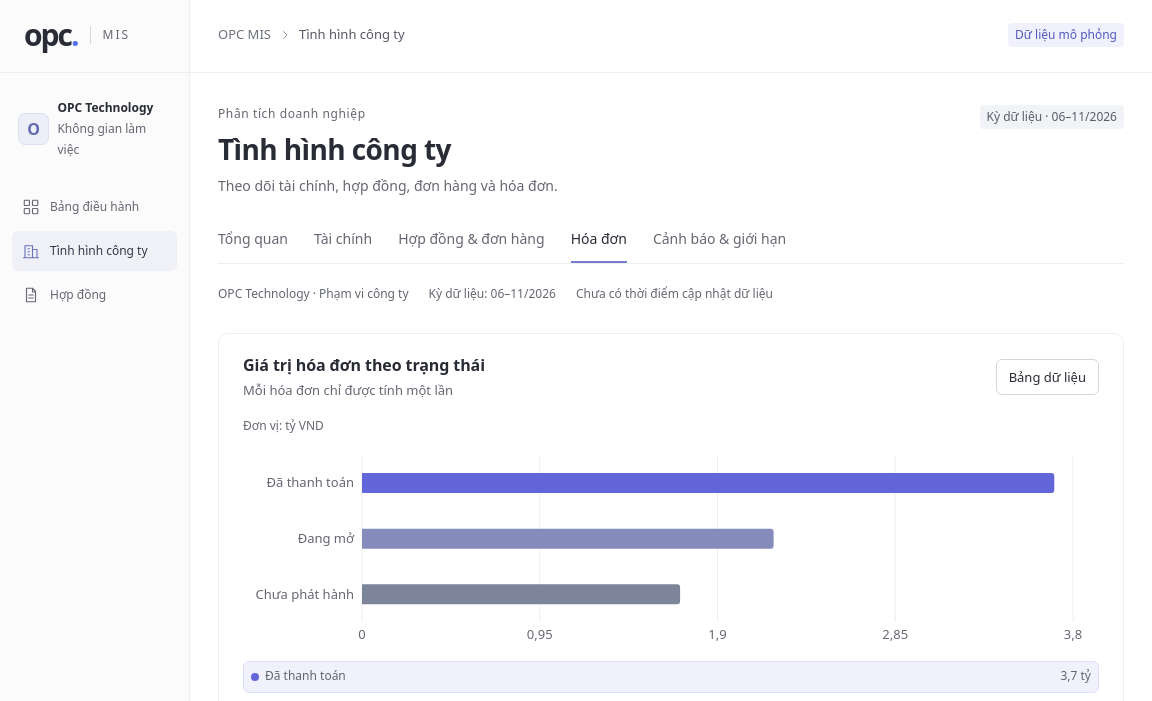
isolated executive preview › uses the same invoice labels in filters, chart tables and invoice rows while retaining source filter values
Check: the text "INV-002" is not shown
Click the button "Bảng dữ liệu" at (1047, 377), box [996,359,1099,395]
(page scrolled)
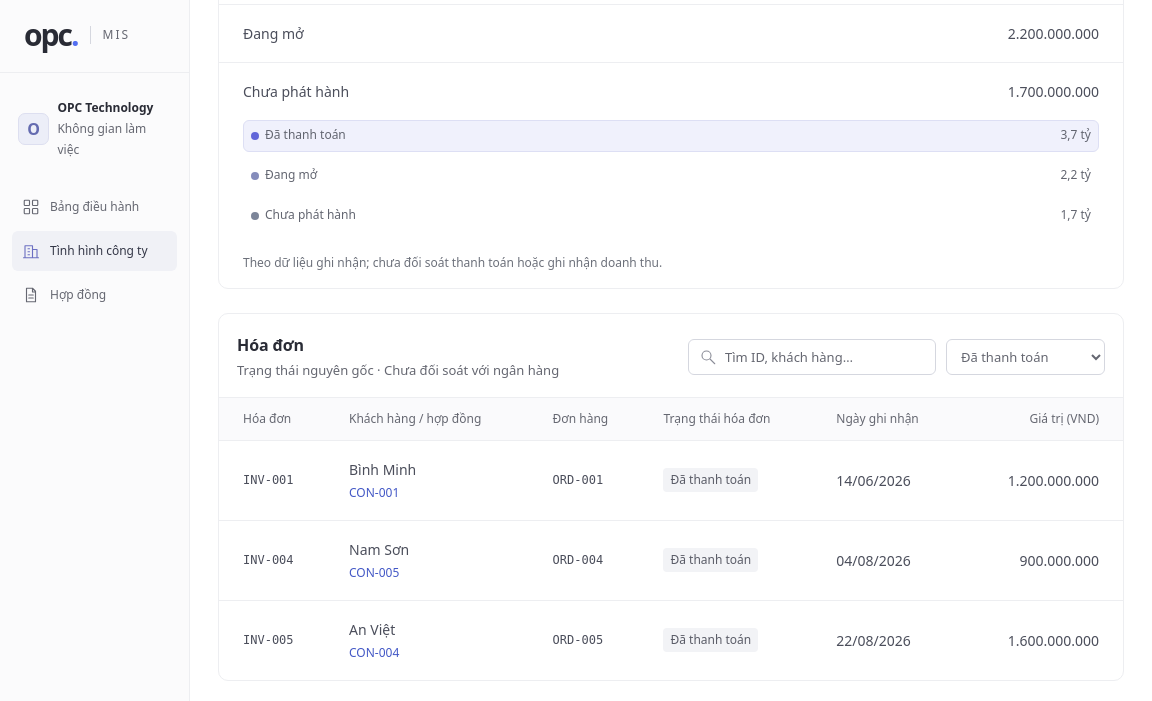
Check: the table that starts with "Hóa đơn" shows "Đã thanh toán", box [670,471,751,488]
Select "Đang mở" in the dropdown named "Trạng thái hóa đơn" at (1026, 357), box [946,339,1105,375]
(page scrolled)
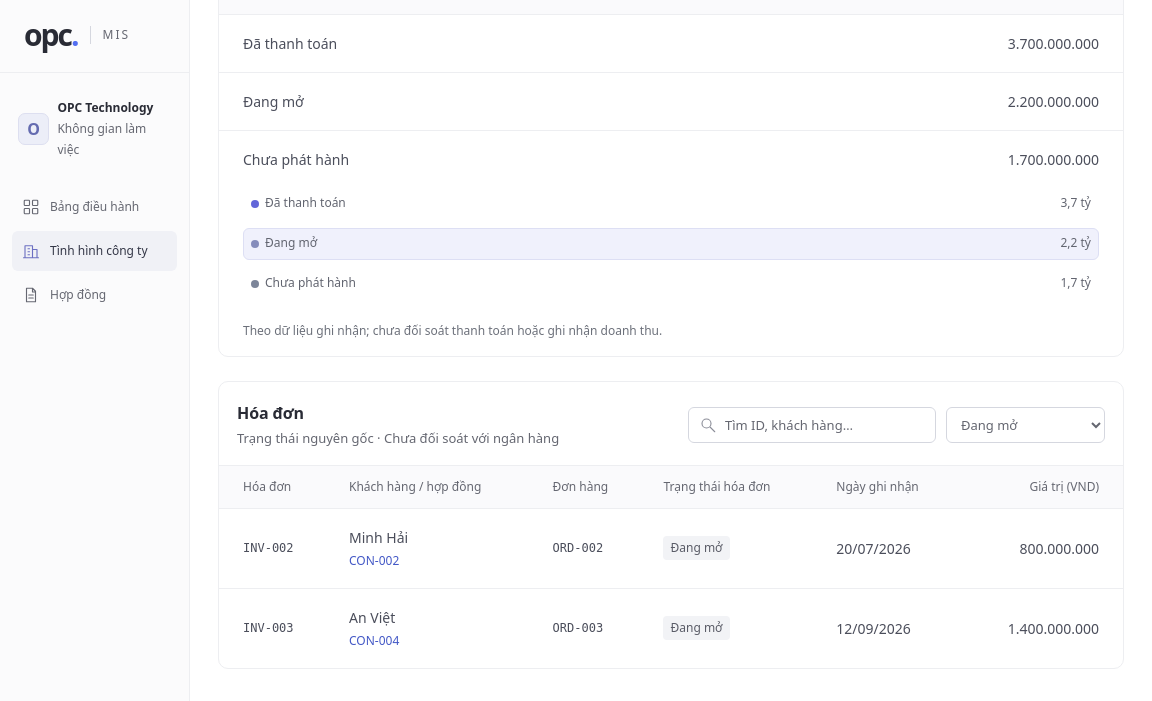
Check: the text "INV-002" is shown, box [219,509,331,588]
